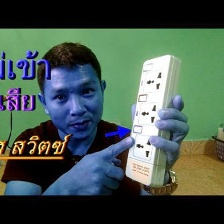three_eye_plug: (121, 53, 185, 189)
